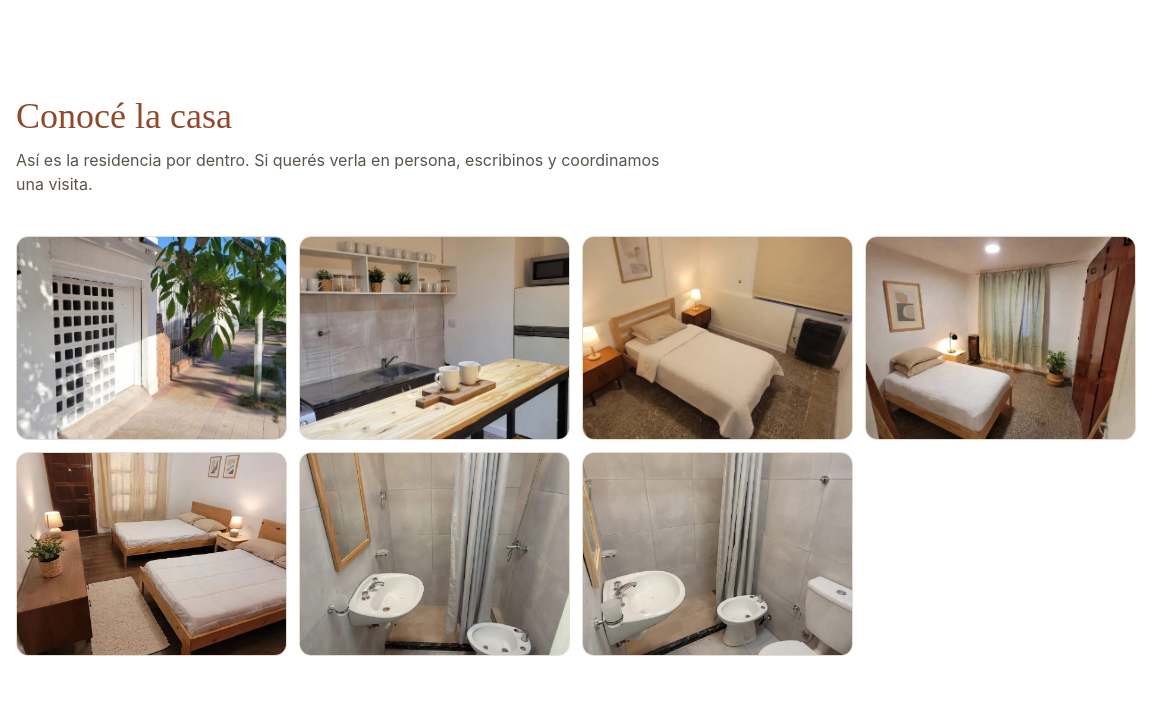
Test: Galeria › el lightbox se cierra con Escape
Click the button named "ampliar" at [152, 338], box left=16, top=236, right=287, bottom=440
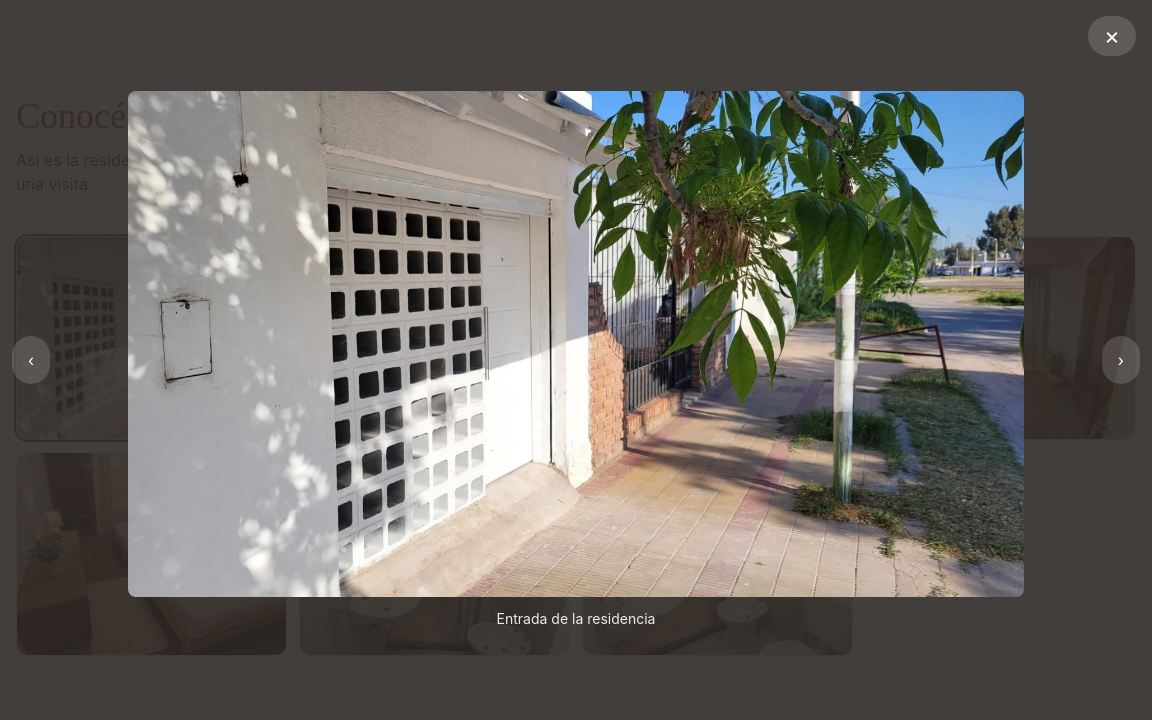
Press Escape
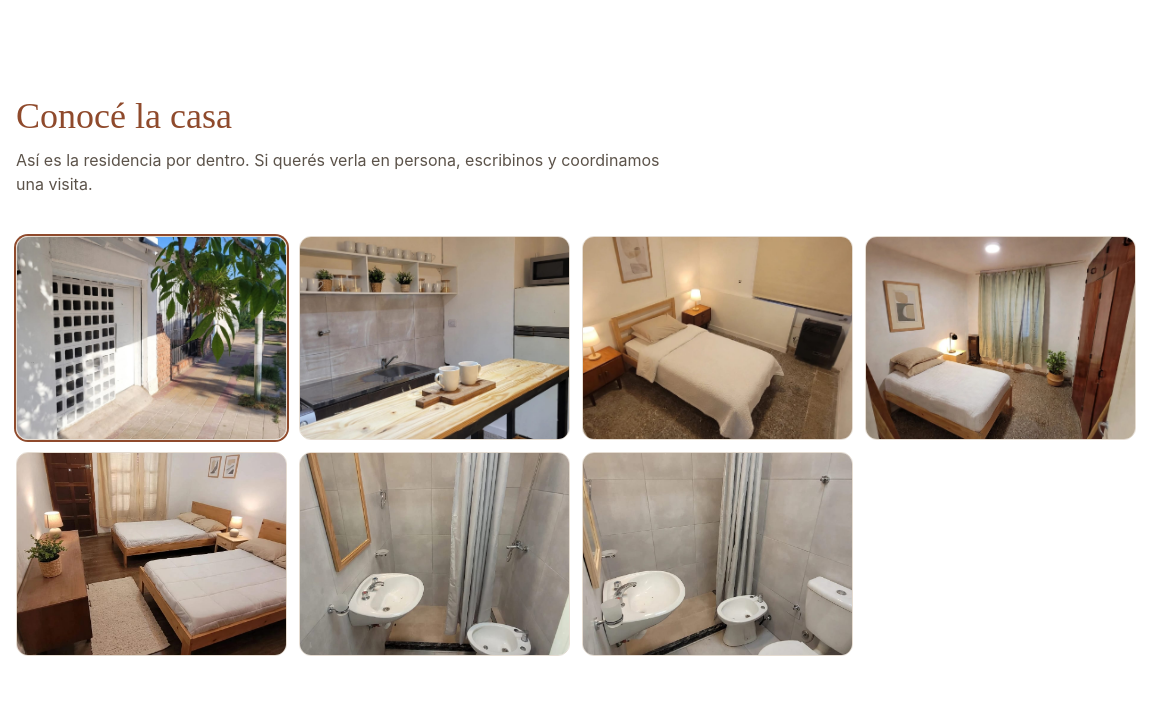
Expected: the dialog is gone
